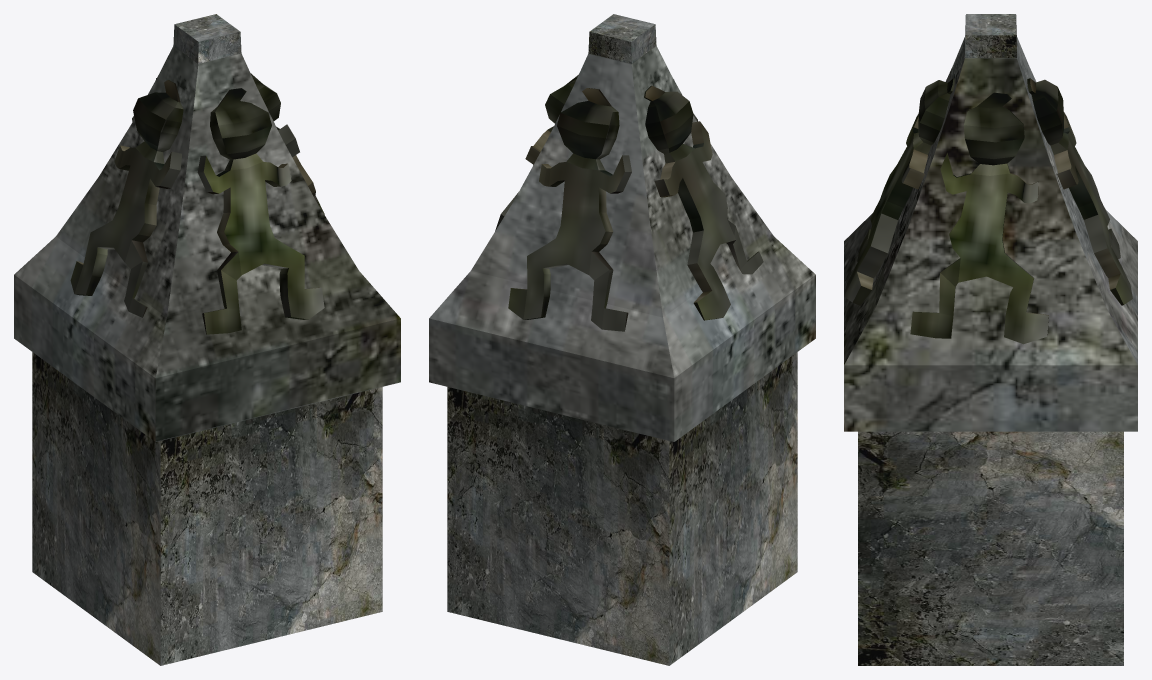
The model's file is WarugaAR.fbx.
3 views of the same model, side by side, from view 1: azimuth 30°, elevation 25°; view 2: azimuth 150°, elevation 25°; view 3: azimuth 270°, elevation 25° (orthographic). The views are drawn at different scales.
Parts seen in each view (by area): view 1: Cube, Cube.001, Cube.002, Cube.004, Cube.005; view 2: Cube, Cube.001, Cube.003, Cube.004, Cube.005; view 3: Cube.001, Cube, Cube.005, Cube.002, Cube.003.
Boxes of the visible parts, x1,y1,x2,y2 form: Cube: (32,352,382,665); Cube.001: (14,14,400,441); Cube.002: (197,88,324,334); Cube.004: (70,80,183,317); Cube.005: (251,73,324,214); Cube: (447,352,797,665); Cube.001: (429,14,815,441); Cube.003: (508,88,631,331); Cube.004: (644,85,763,320); Cube.005: (495,74,578,230); Cube.001: (844,14,1137,431); Cube: (858,431,1123,665); Cube.005: (910,92,1048,344); Cube.002: (844,78,954,305); Cube.003: (1027,78,1132,305).
Size of the model in its own units: 221 by 486 by 221.
